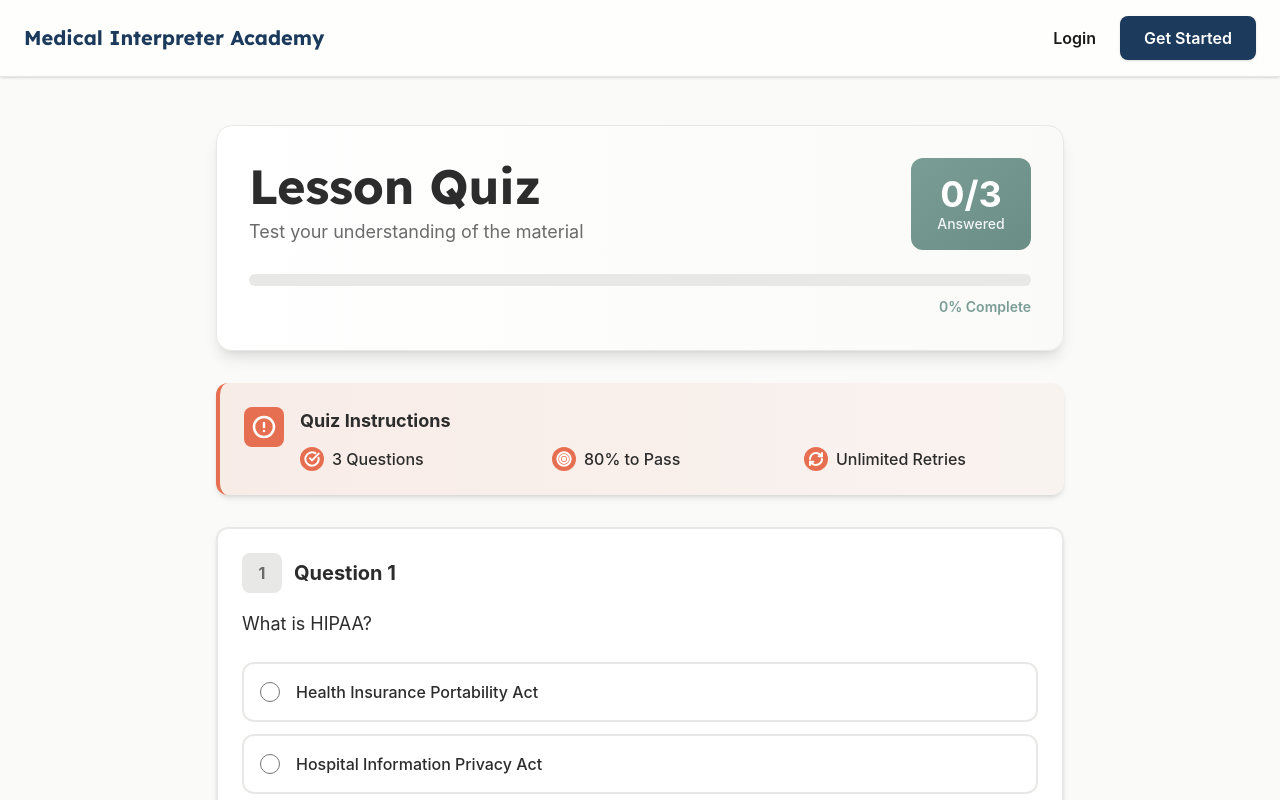
QuizView Page › Answering Questions › should show ANSWERED badge for completed questions
Check: the text "What is HIPAA?" is shown, box [242, 613, 372, 634]
Answer first question
Click the radio button labelled "Health Insurance Portability Act" at (270, 692), box [260, 682, 280, 702]
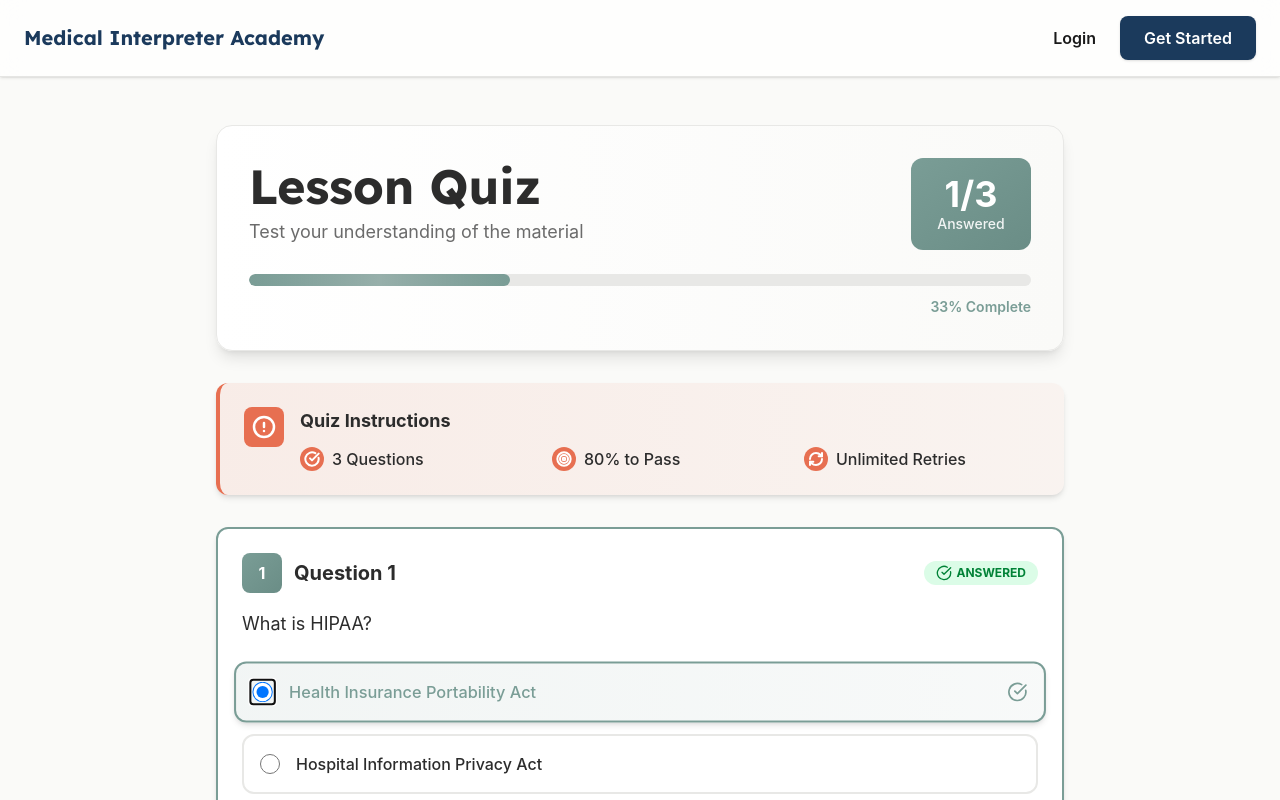
Check: the text "ANSWERED" is shown, box [956, 565, 1026, 581]
